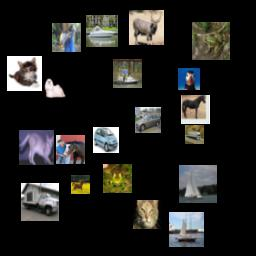automobile: (135, 107, 161, 133), (93, 127, 119, 153)
bird: (52, 23, 81, 52), (178, 68, 200, 90)
cat: (7, 56, 42, 91), (19, 130, 54, 165), (133, 200, 162, 229)
deer: (129, 10, 164, 45)
dog: (44, 77, 66, 99)
frog: (192, 22, 230, 60), (103, 164, 132, 193)
ship: (179, 165, 217, 203), (169, 212, 204, 247), (86, 15, 118, 47), (113, 59, 142, 88)
truck: (21, 183, 59, 221), (185, 125, 204, 144)
